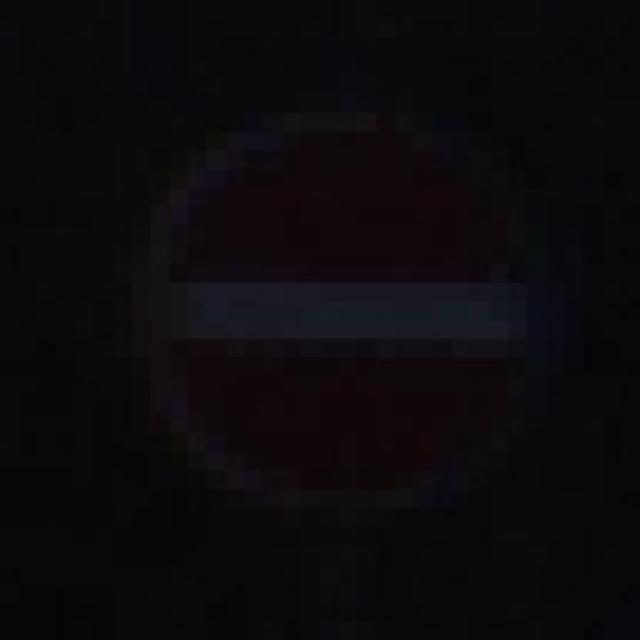No Entry: (112, 75, 565, 528)
